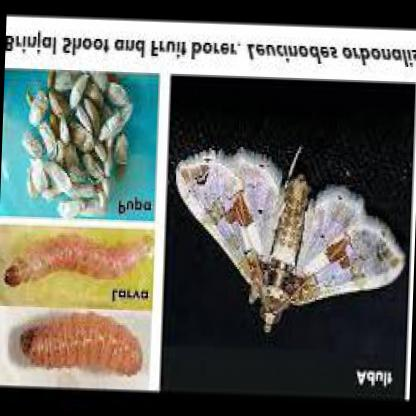leucinodes: (176, 155, 404, 330)
